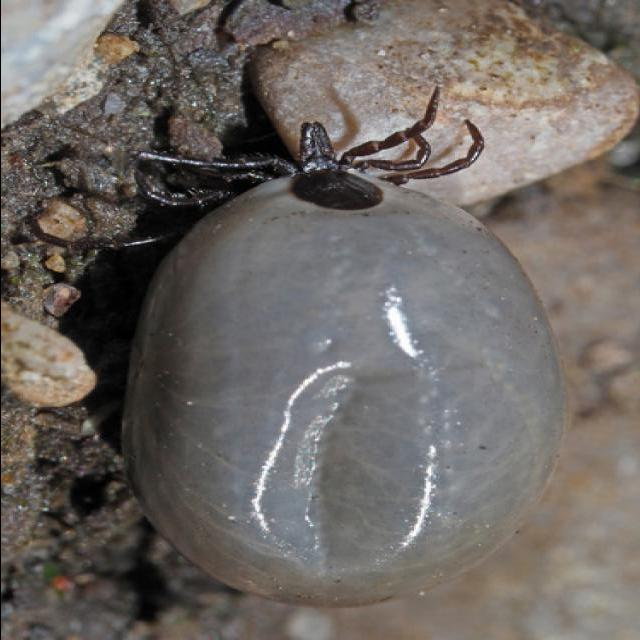Ixodes Ricinus-F-Fed: (24, 86, 563, 607)
